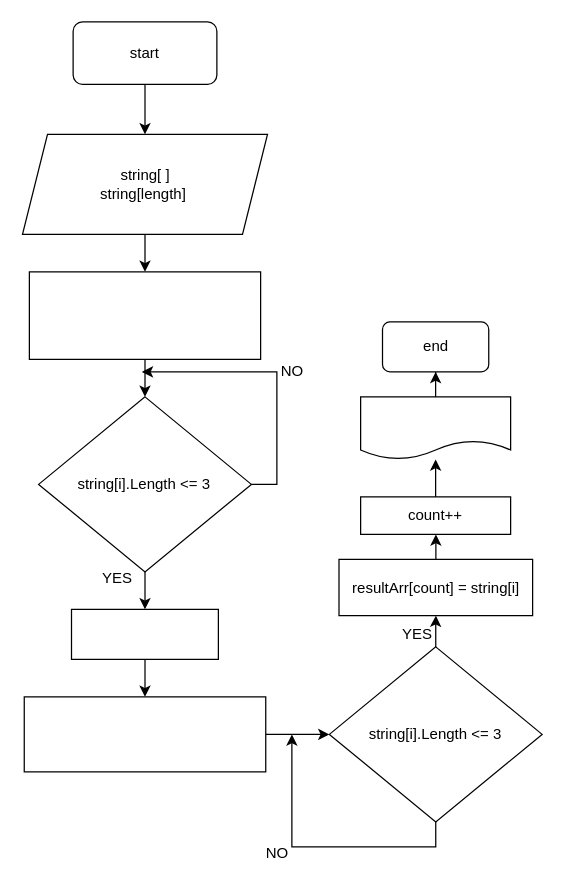
Some shapes in this 564 by 894 pixel diagram are drawn without their labels. The shapes that lost their labels are listed below. From the top down, each one's box as (x1, y1, x2, y2) in pixels, then its label:
(28, 271, 261, 359): findArrSize = 0 for(i = 0, i < string.Length. i++)
(359, 396, 511, 459): resultArr
(70, 608, 218, 659): findArrSize++
(23, 696, 266, 772): resultArr = new string[findArrSize] count = 0 for(i = 0, i < string.Length. i++)
